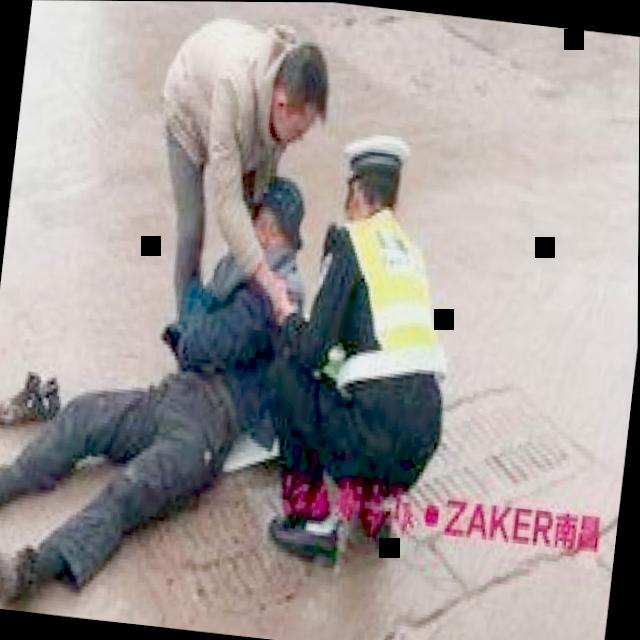Fall-Detected: (0, 107, 341, 640)
